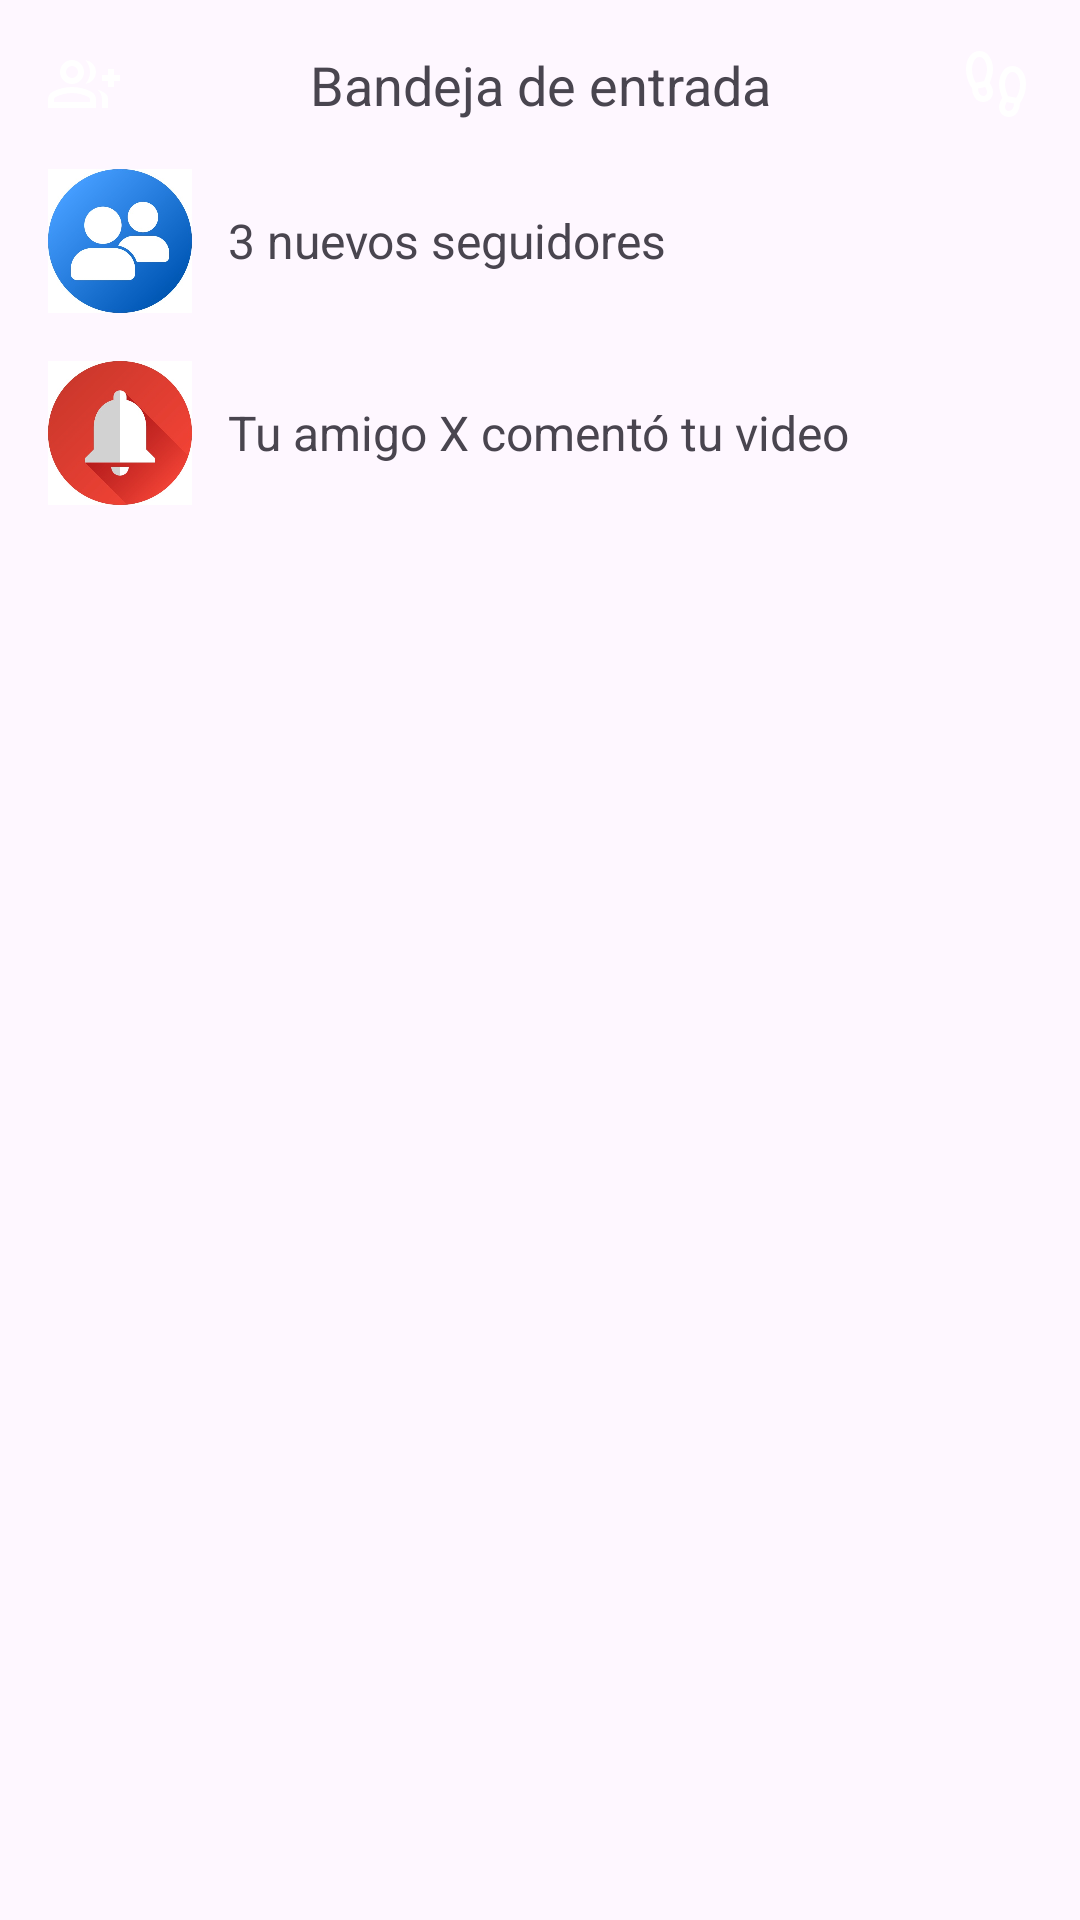

Locate icon controls on the screen. Image size 1080 × 1920, boxes as (x1,y1,x2,y2).
actividad: (48,361,192,505)
